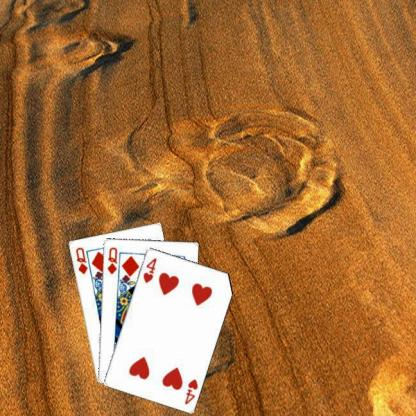4H: (140, 255, 158, 284), (182, 376, 199, 406)
QD: (72, 244, 89, 276), (104, 244, 118, 275)
